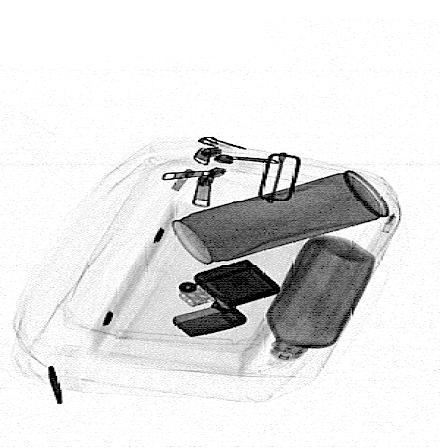Lighter: (173, 258, 281, 338)
